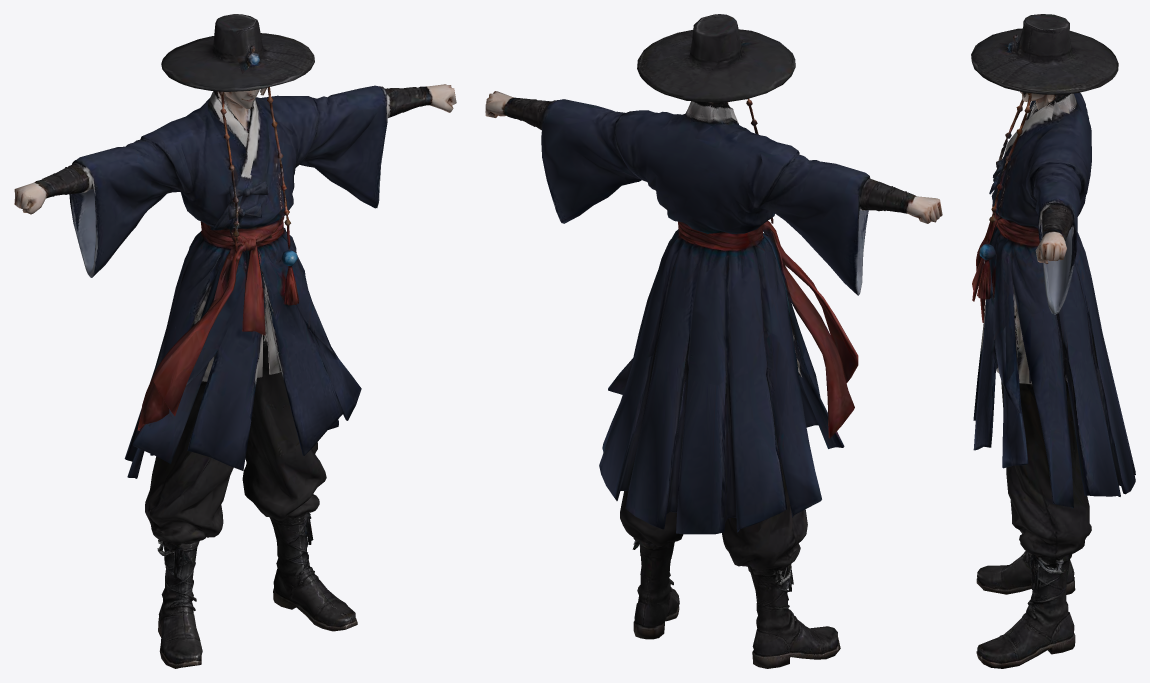
The model's file is doho_684a9cfb_12k_textured_static_mixamo.fbx.
3 renders of one model, left to right at view 1: azimuth 30°, elevation 25°; view 2: azimuth 150°, elevation 25°; view 3: azimuth 270°, elevation 25°, orthographic. The views are drawn at different scales.
Visible parts, largest first — view 1: tripo_node_ad1f6802; view 2: tripo_node_ad1f6802; view 3: tripo_node_ad1f6802.
Boxes of the visible parts, <box> form: tripo_node_ad1f6802: <box>14,14,456,668</box>; tripo_node_ad1f6802: <box>485,14,942,668</box>; tripo_node_ad1f6802: <box>971,14,1135,668</box>.
Size of the model in its own units: 1.28 by 1.7 by 0.4207.
1 material, 1 textured.
